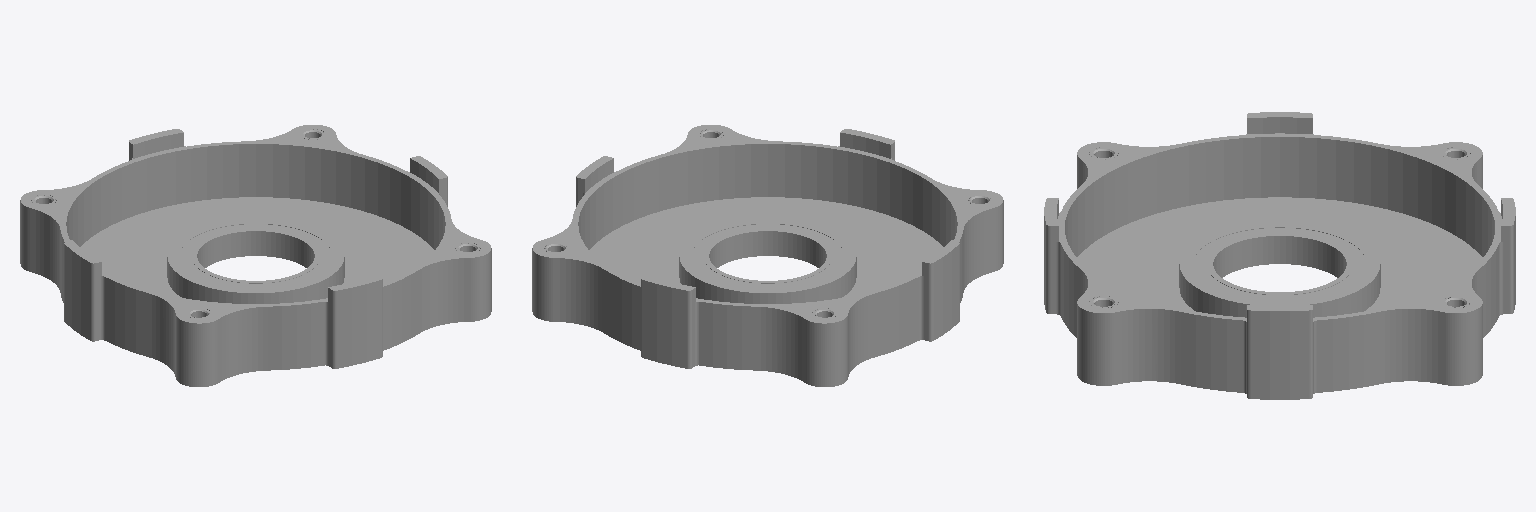
The robot description file, URDF, robot "L1":
<robot name="L1">
	<link name="baselink" />
	<joint name="dummy" type="fixed">
		<parent link="baselink" />
		<child link="geometry" />
	</joint>
	<link name="geometry">
		<contact>
			<lateral_friction value="1.0" />
			<spinning_friction value="0.2" />
			<rolling_friction value="0.001" />
			<contact_cfm value="0.0" />
			<contact_erp value="0.8" />
			<damping value="1000" />
			<stiffness value="30000" />
		</contact>
		<inertial>
			<origin rpy="0 0 0" xyz="0.0006518549099502081 0.0009457451903836788 2.9160341038592383" />
			<mass value="1.0" />
			<inertia ixx="1" ixy="0" ixz="0" iyy="1" iyz="0" izz="1" />
		</inertial>
		<visual>
			<origin rpy="0 0 0" xyz="0 0 0" />
			<geometry>
				<mesh filename="mesh/L1.stl" />
			</geometry>
			<material name="base">
				<color rgba="0.7 0.7 0.7 1" />
			</material>
		</visual>
		<collision>
			<origin rpy="0 0 0" xyz="0 0 0" />
			<geometry>
				<mesh filename="mesh/L1.stl" />
			</geometry>
		</collision>
	</link>
</robot>

--- What the picture shows (computed from the rendered views, not written in the file) ---
Views: 3 orthographic renders of the robot side by side, from view 1: azimuth 30°, elevation 25°; view 2: azimuth 150°, elevation 25°; view 3: azimuth 270°, elevation 25°.
Model L1 with 2 links and 1 joints (1 fixed), rooted at baselink, posed all joints at 0.
Visible links, largest first — view 1: geometry; view 2: geometry; view 3: geometry.
Link boxes in pixels (x1,y1,x2,y2): geometry: (20, 125, 491, 386); geometry: (532, 125, 1003, 386); geometry: (1044, 112, 1515, 399).
Size in the robot's own frame: 106 by 106 by 22 metres.
1 mesh visuals loaded from 1 distinct referenced files (1 binary STL).